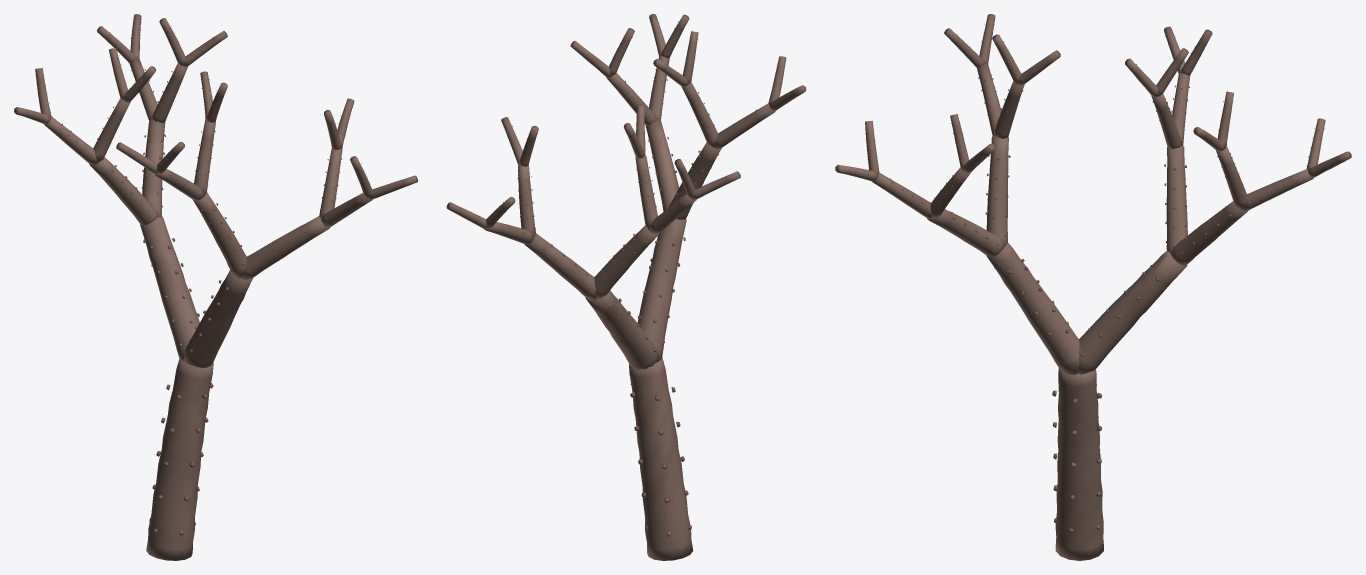
Rendered from branching-tabulate-coral.lod1.glb.
3 views of the same model, side by side, from view 1: azimuth 30°, elevation 25°; view 2: azimuth 150°, elevation 25°; view 3: azimuth 270°, elevation 25° (orthographic). The views are drawn at different scales.
Visible parts, largest first — view 1: branching-tabulate-coral; view 2: branching-tabulate-coral; view 3: branching-tabulate-coral.
Part boxes in pixels (box(x1,y1,x2,y2)): branching-tabulate-coral: box(14, 14, 417, 560); branching-tabulate-coral: box(446, 14, 806, 560); branching-tabulate-coral: box(835, 14, 1351, 560).
Size of the model in its own units: 0.0785 by 0.1458 by 0.1304.
